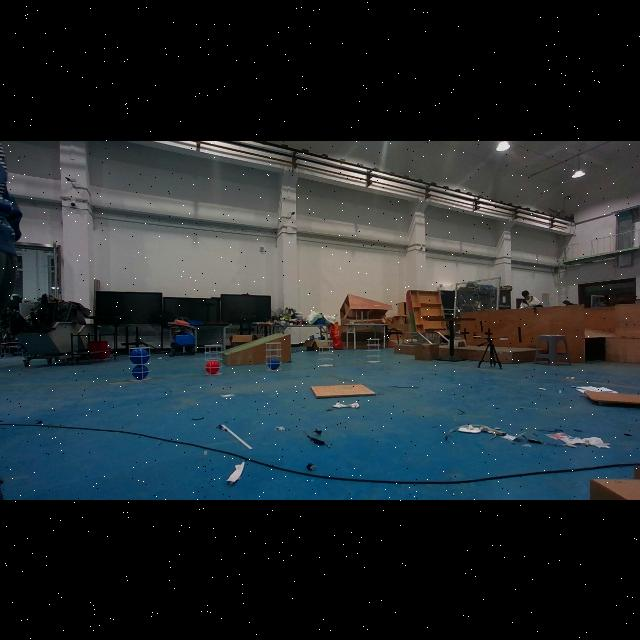B: (130, 348, 150, 364), (130, 365, 150, 379), (267, 356, 281, 368)
R: (206, 361, 220, 375)
S: (126, 344, 154, 384), (200, 339, 226, 376), (263, 340, 283, 372), (316, 337, 336, 369), (363, 336, 383, 364)
